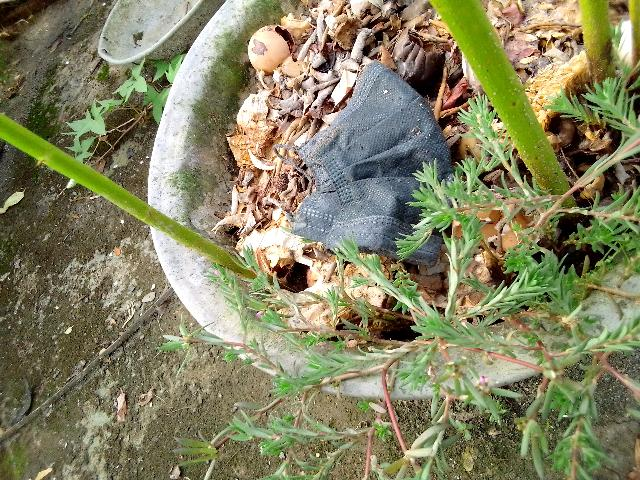mask: (293, 66, 459, 263)
